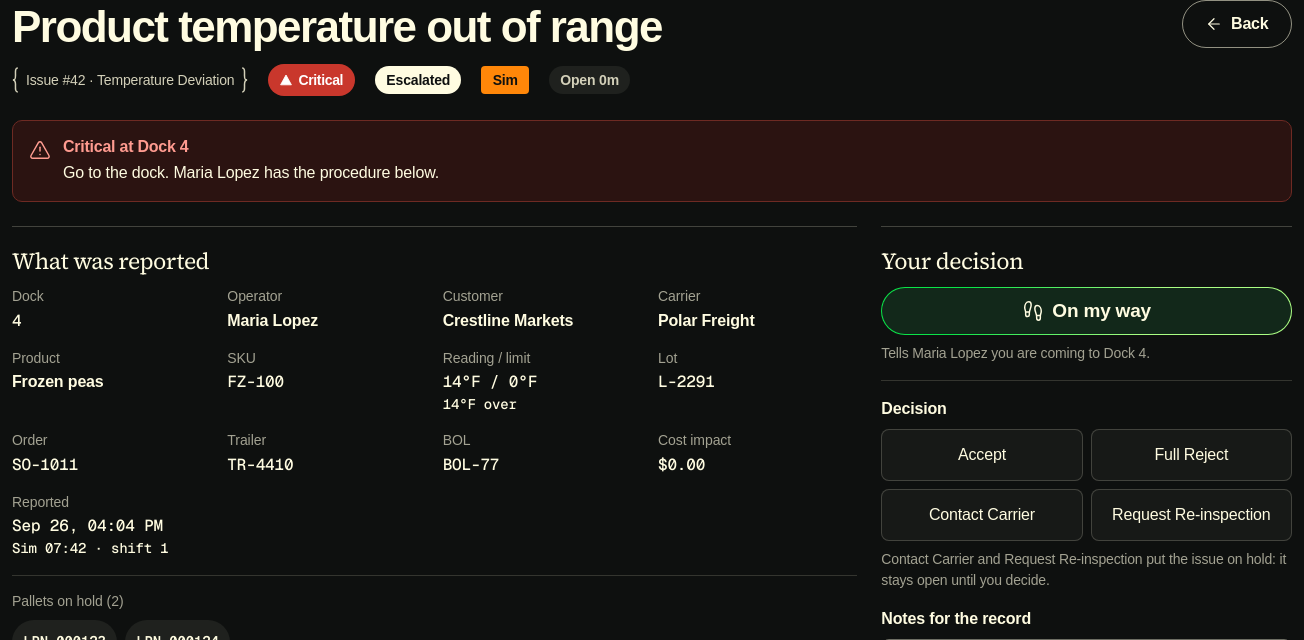
Test: Issue detail: product disposition belongs to Quality › asks for the reason before accepting product on a critical issue
The image size is (1304, 640).
Expected: the button "On my way" is shown, top-left (881, 287), bottom-right (1292, 335)
Click the radio button labelled "Accept": (982, 455) top-left (881, 429), bottom-right (1083, 481)
(page scrolled)
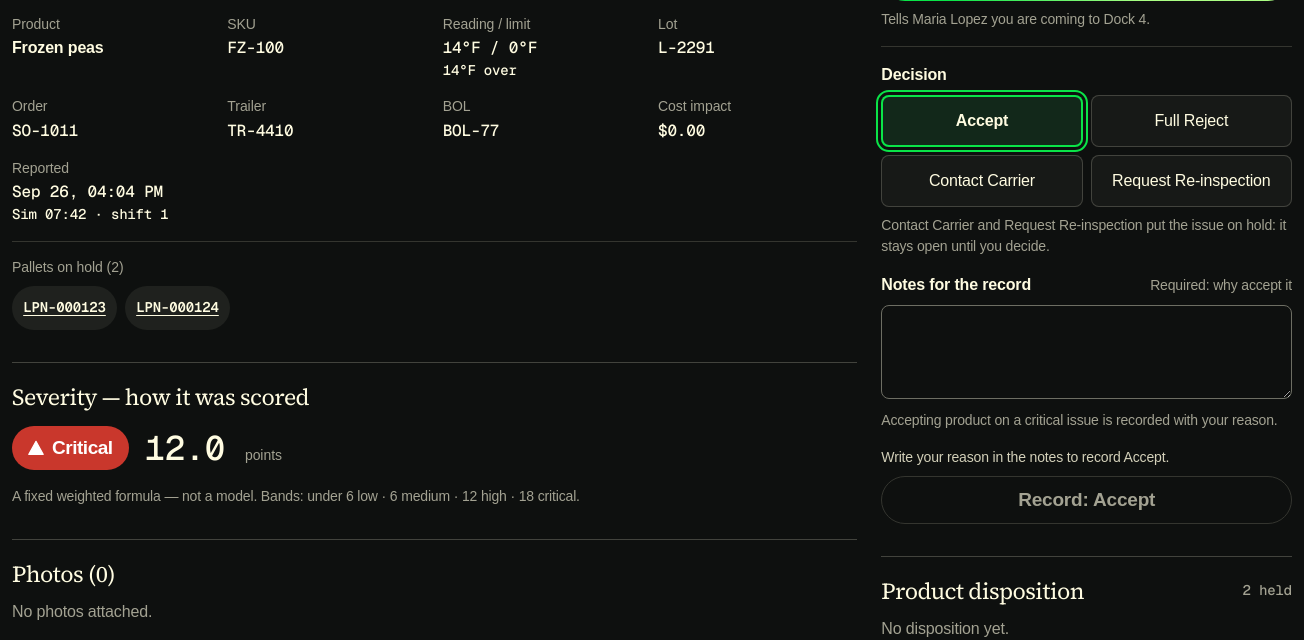
Expected: the button "Record: Accept" is disabled, top-left (881, 476), bottom-right (1292, 524)
Result: the text "Write your reason in the notes to record Accept." is shown at top-left (881, 449), bottom-right (1169, 465)
In the text box labelled "Notes for the record Required: why accept it": (1087, 352) top-left (881, 305), bottom-right (1292, 399), type "Reprobed within limit"
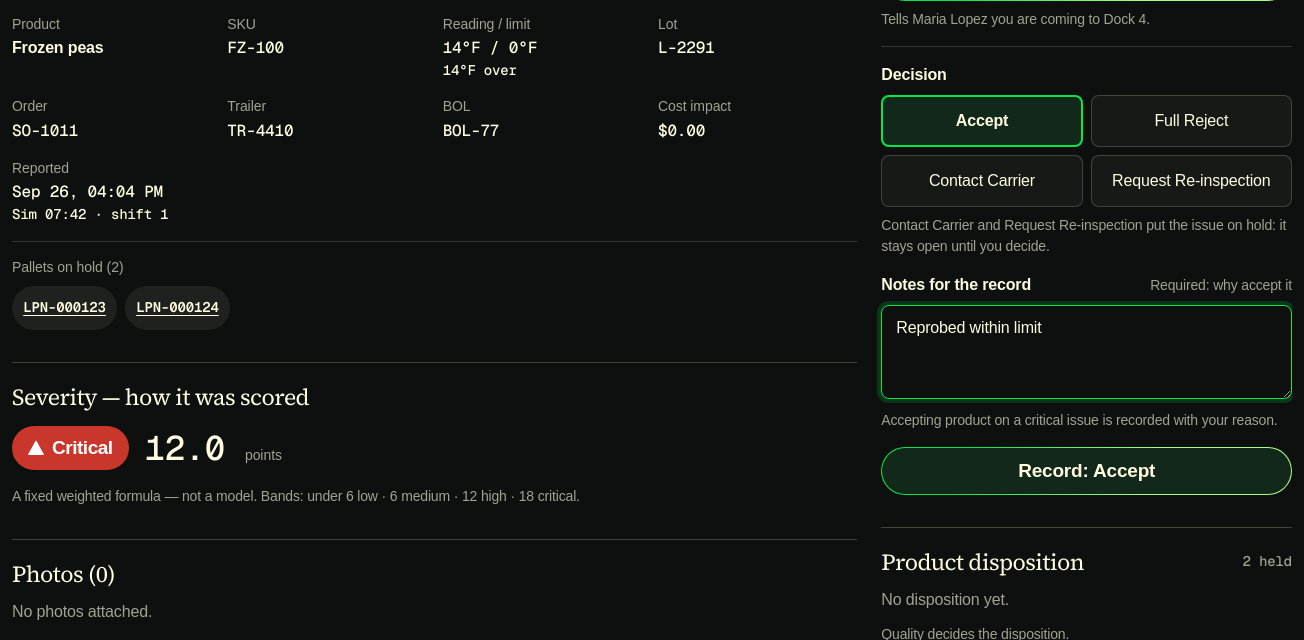
Click the radio button labelled "Contact Carrier": (982, 181) top-left (881, 155), bottom-right (1083, 207)
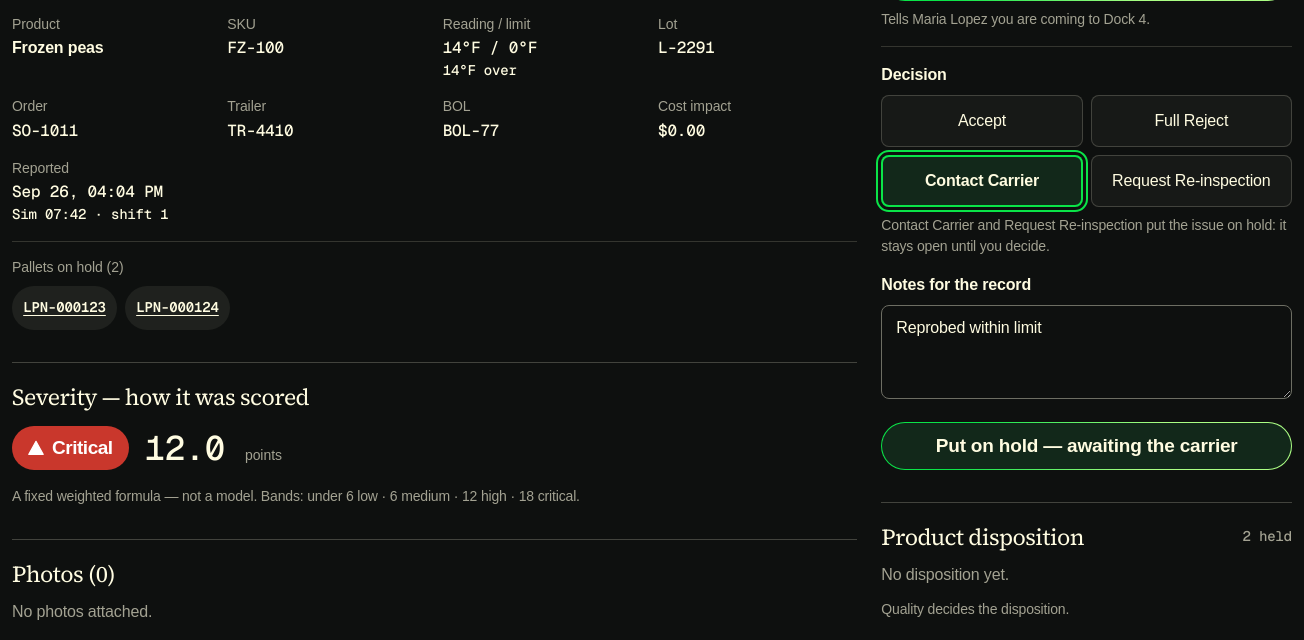
Result: the button "Put on hold — awaiting the carrier" is shown at top-left (881, 422), bottom-right (1292, 470)
